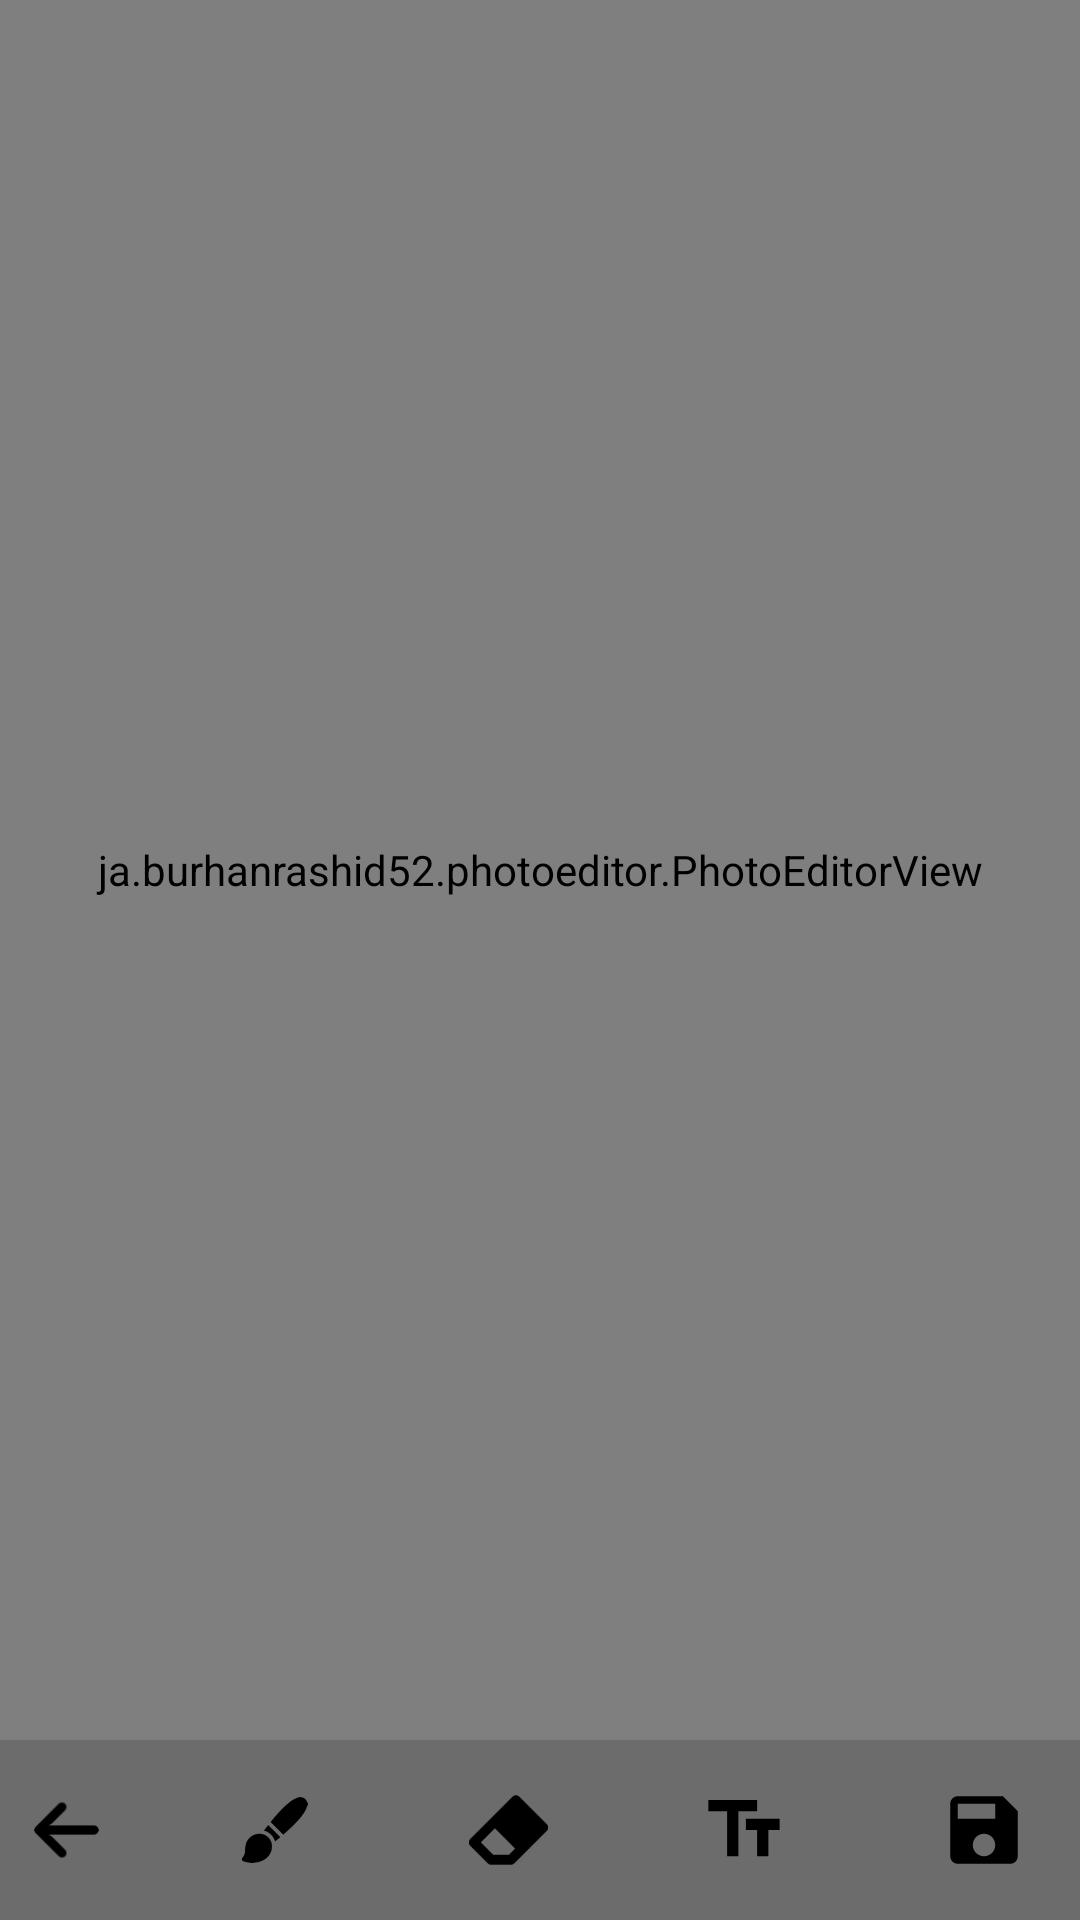

Icon click points for this 1080×1920 phone screenshot, format point (x, y):
eraser: point (508, 1830)
paint brush: point (275, 1830)
save: point (984, 1830)
text fields: point (744, 1828)
